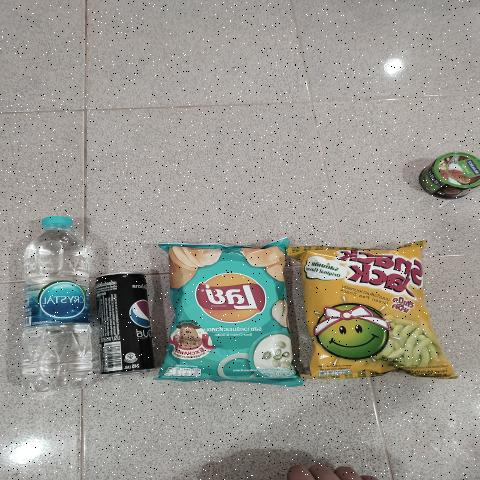crystal: (36, 217, 82, 379)
lay_blue: (174, 250, 287, 376)
pepsi_black: (100, 270, 152, 372)
snack_jack: (311, 252, 435, 374)
